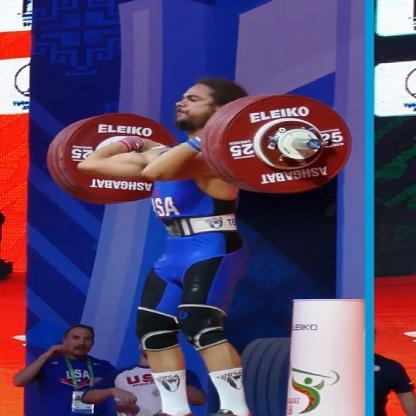barbell: (45, 89, 353, 207)
